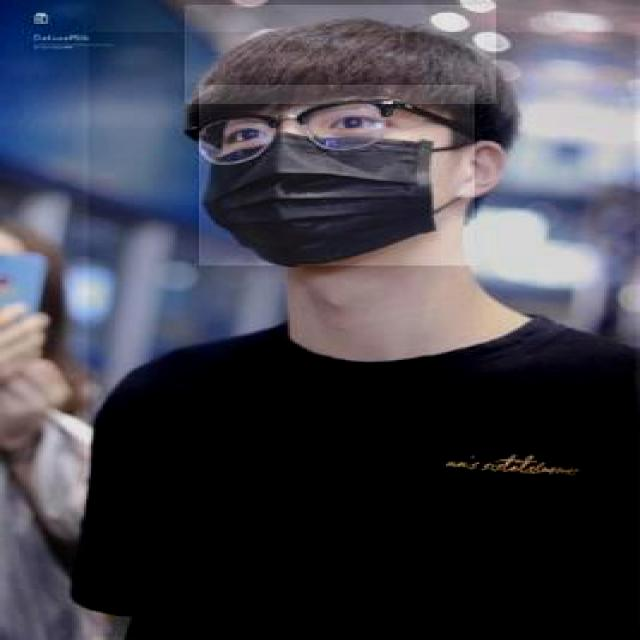face_mask: (199, 84, 475, 266)
glasses: (188, 92, 397, 162)
head_nohelmet: (184, 5, 498, 106)
person: (88, 32, 638, 638)
